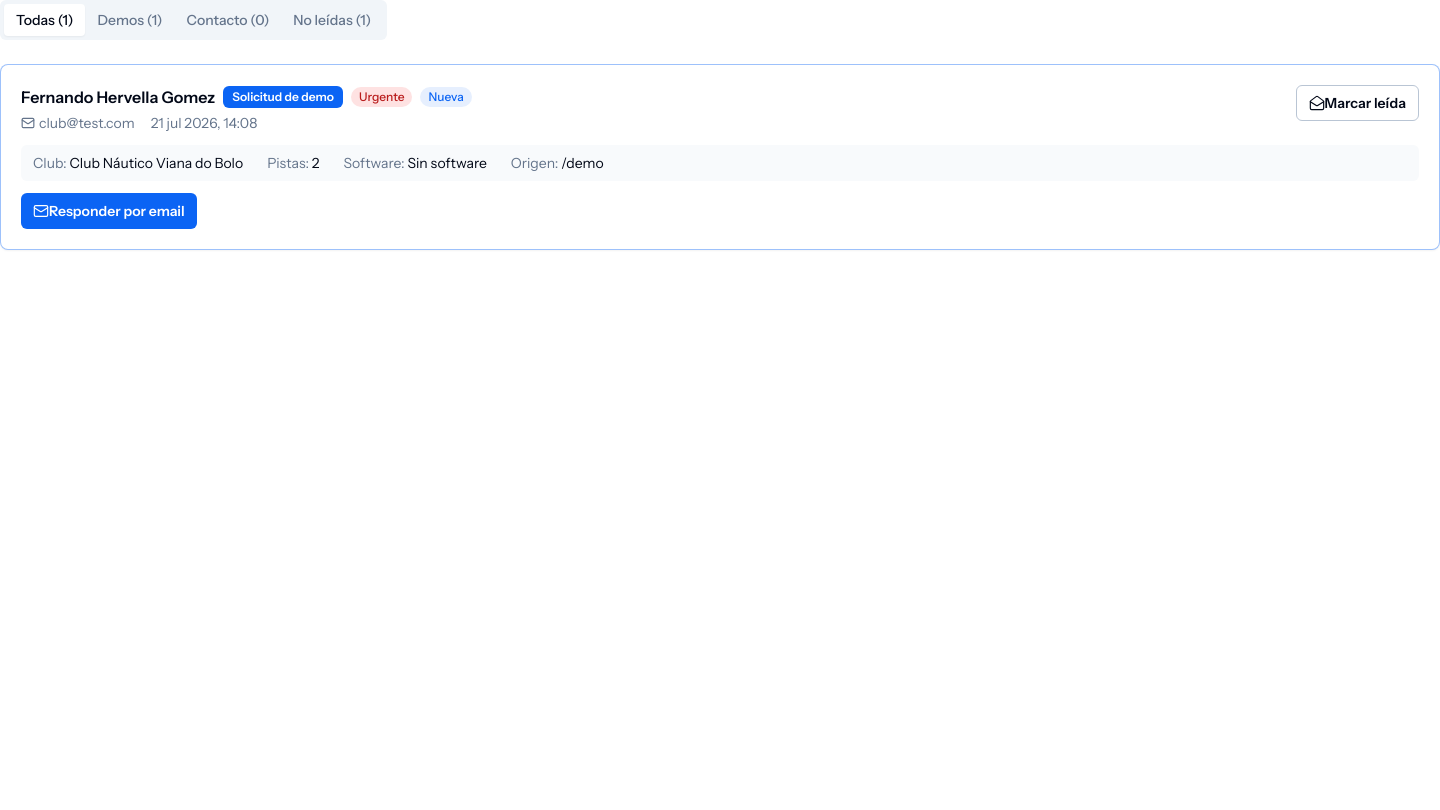
LeadsClient › abre un editor interno para responder en vez de depender de mailto
Click the button "Responder por email" at point(109, 211), box x1=21 y1=193 x2=197 y2=229
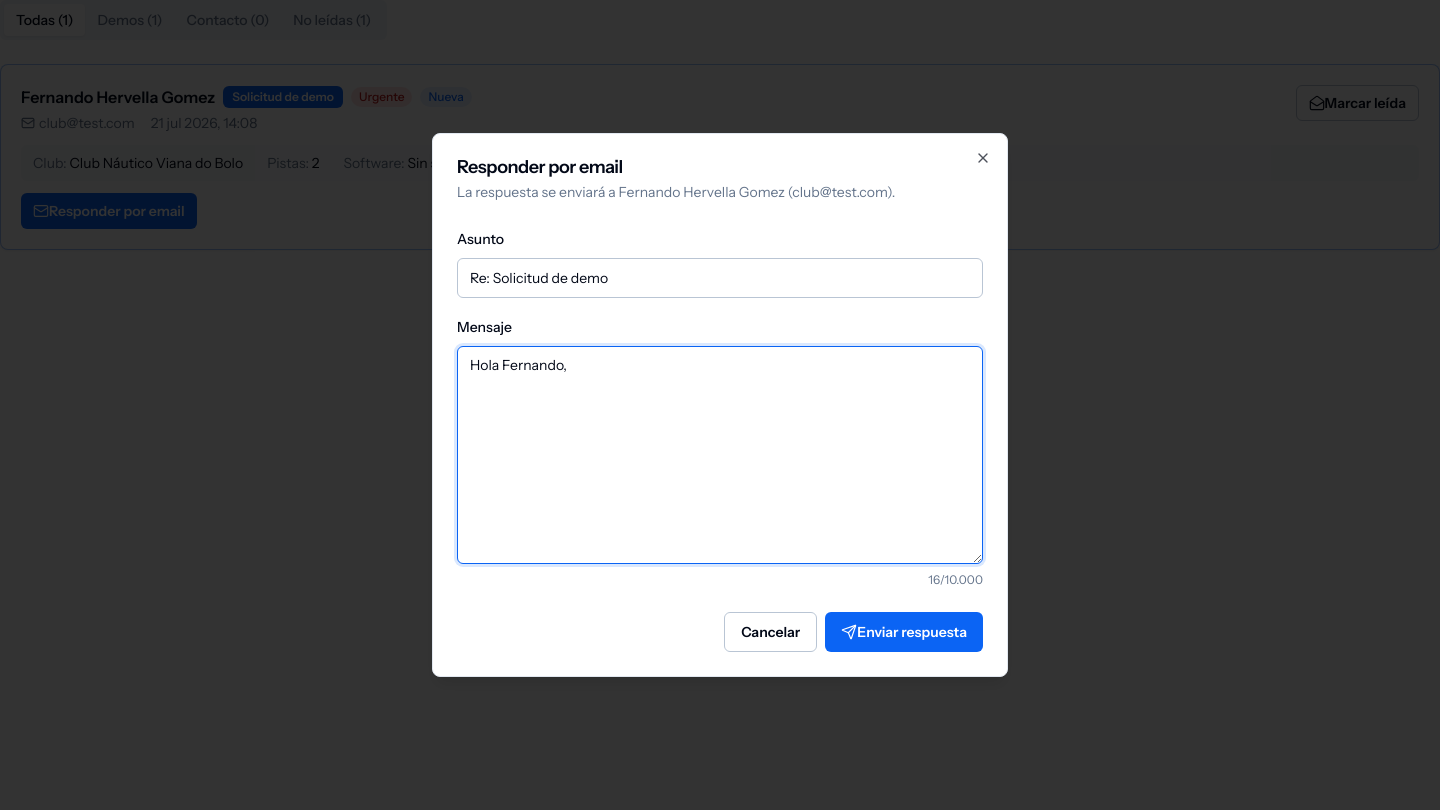
Check: the dialog is shown, box x1=432 y1=133 x2=1008 y2=677
Check: the field labelled "Asunto" holds "Re: Solicitud de demo", box x1=457 y1=258 x2=983 y2=298
Check: the text "La respuesta se enviará a Fernando" is shown, box x1=457 y1=183 x2=895 y2=201
